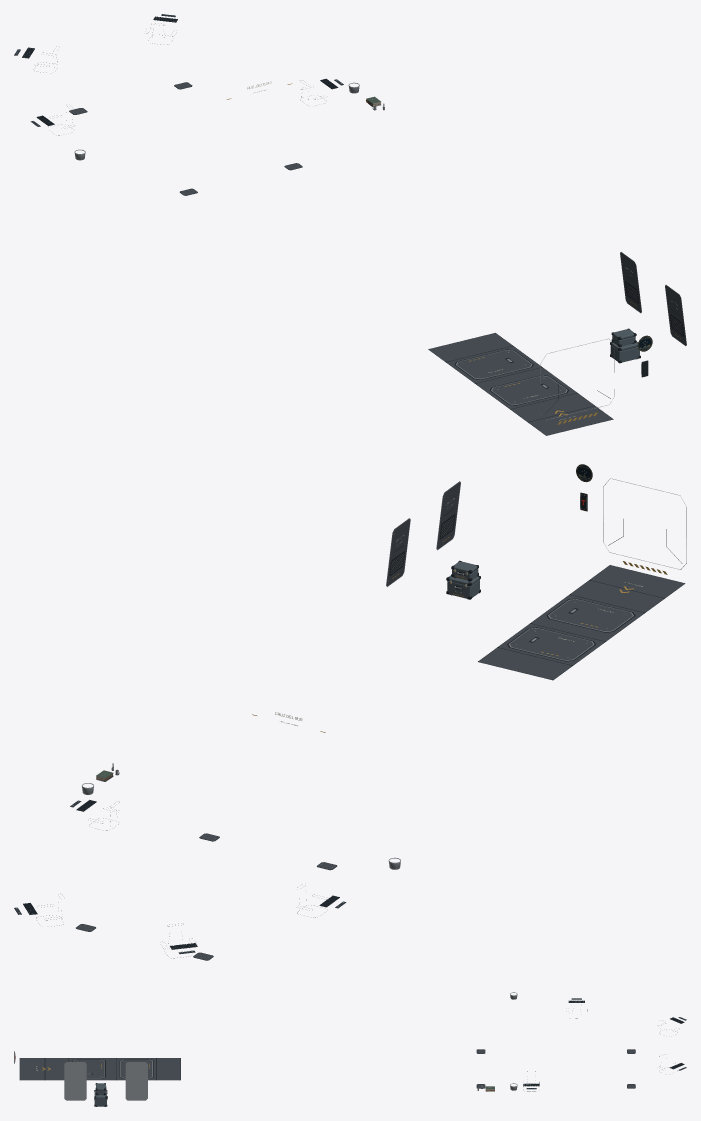
Rendered from cruz-del-sur-clean-details.glb.
The picture shows the model from 3 angles, top to bottom: view 1: azimuth 30°, elevation 25°; view 2: azimuth 150°, elevation 25°; view 3: azimuth 270°, elevation 25°; orthographic projection. The views are drawn at different scales.
Parts seen in each view (by area): view 1: REFINED_arrival_static_CDS DETAIL_Graphite deck - restrained, REFINED_arrival_static_CDS DETAIL_Recesses and gaskets, REFINED_arrival_static_CDS DETAIL_Pressure panel warm graphi, REFINED_arrival_static_CDS DETAIL_Brushed steel rebates, REFINED_arrival_static_CDS POLISH_Scientific transport blue ; view 2: REFINED_arrival_static_CDS DETAIL_Graphite deck - restrained, REFINED_arrival_static_CDS DETAIL_Recesses and gaskets, REFINED_arrival_static_CDS DETAIL_Pressure panel warm graphi, REFINED_arrival_static_CDS DETAIL_Brushed steel rebates, REFINED_arrival_static_CDS POLISH_Scientific transport blue ; view 3: REFINED_arrival_static_CDS DETAIL_Graphite deck - restrained, REFINED_arrival_static_CDS DETAIL_Brushed steel rebates, REFINED_arrival_static_CDS DETAIL_Recesses and gaskets, REFINED_arrival_static_CDS POLISH_Scientific transport blue .
Boxes of the visible parts, left/top/right/bottom form: REFINED_arrival_static_CDS DETAIL_Graphite deck - restrained: left=429, top=333, right=612, bottom=435; REFINED_arrival_static_CDS DETAIL_Recesses and gaskets: left=428, top=276, right=683, bottom=435; REFINED_arrival_static_CDS DETAIL_Pressure panel warm graphi: left=620, top=252, right=686, bottom=345; REFINED_arrival_static_CDS DETAIL_Brushed steel rebates: left=456, top=252, right=686, bottom=420; REFINED_arrival_static_CDS POLISH_Scientific transport blue : left=610, top=329, right=639, bottom=362; REFINED_arrival_static_CDS DETAIL_Graphite deck - restrained: left=479, top=565, right=684, bottom=679; REFINED_arrival_static_CDS DETAIL_Recesses and gaskets: left=389, top=508, right=685, bottom=680; REFINED_arrival_static_CDS DETAIL_Pressure panel warm graphi: left=386, top=482, right=460, bottom=585; REFINED_arrival_static_CDS DETAIL_Brushed steel rebates: left=386, top=478, right=686, bottom=660; REFINED_arrival_static_CDS POLISH_Scientific transport blue : left=447, top=561, right=479, bottom=598; REFINED_arrival_static_CDS DETAIL_Graphite deck - restrained: left=20, top=1058, right=180, bottom=1080; REFINED_arrival_static_CDS DETAIL_Brushed steel rebates: left=64, top=1059, right=152, bottom=1100; REFINED_arrival_static_CDS DETAIL_Recesses and gaskets: left=19, top=1058, right=180, bottom=1080; REFINED_arrival_static_CDS POLISH_Scientific transport blue : left=94, top=1083, right=106, bottom=1106.
Bounding box in the file's own units: 8.45 × 3.07 × 25.31.
Materials: 24 (2 with a texture image).
